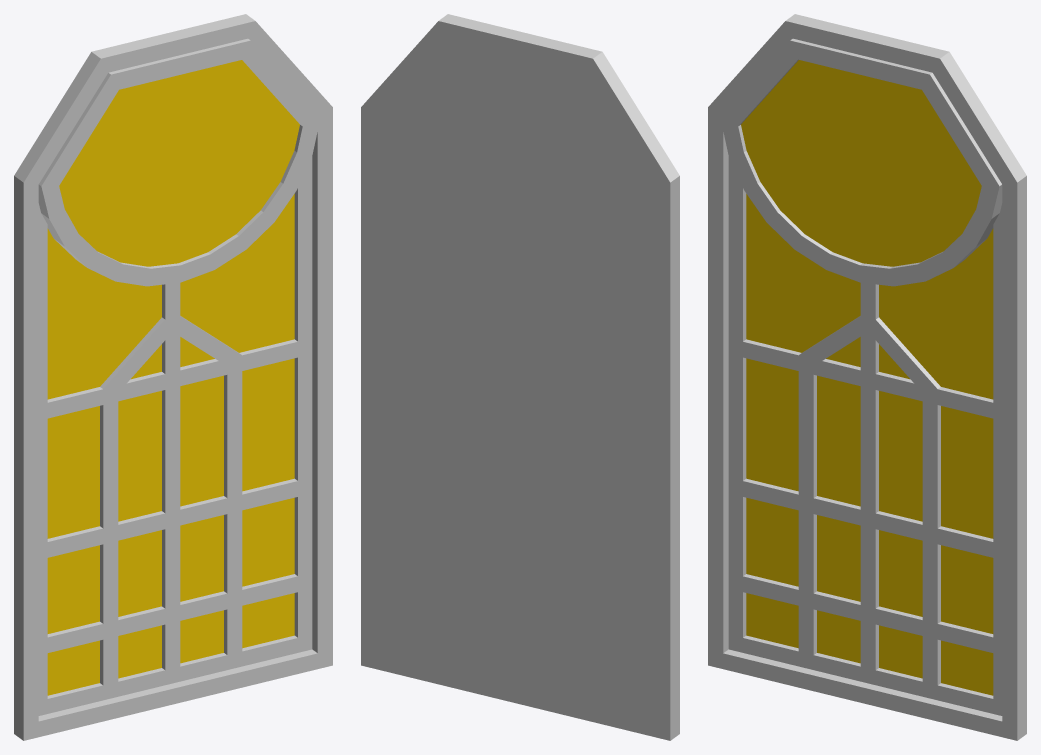
Rendered from Prop_Gothic_Decoration_Window_02.FBX.
3 views of the same model, side by side, from view 1: azimuth 30°, elevation 25°; view 2: azimuth 150°, elevation 25°; view 3: azimuth 330°, elevation 25° (orthographic).
Visible parts, largest first — view 1: Prop_Gothic_Decoration_Window_02; view 2: Prop_Gothic_Decoration_Window_02; view 3: Prop_Gothic_Decoration_Window_02.
Boxes of the visible parts, x1=… form: Prop_Gothic_Decoration_Window_02: x1=14, y1=14, x2=332, y2=740; Prop_Gothic_Decoration_Window_02: x1=361, y1=14, x2=679, y2=740; Prop_Gothic_Decoration_Window_02: x1=708, y1=14, x2=1026, y2=740.
Bounding box in the file's own units: 1670 × 3424 × 114.
